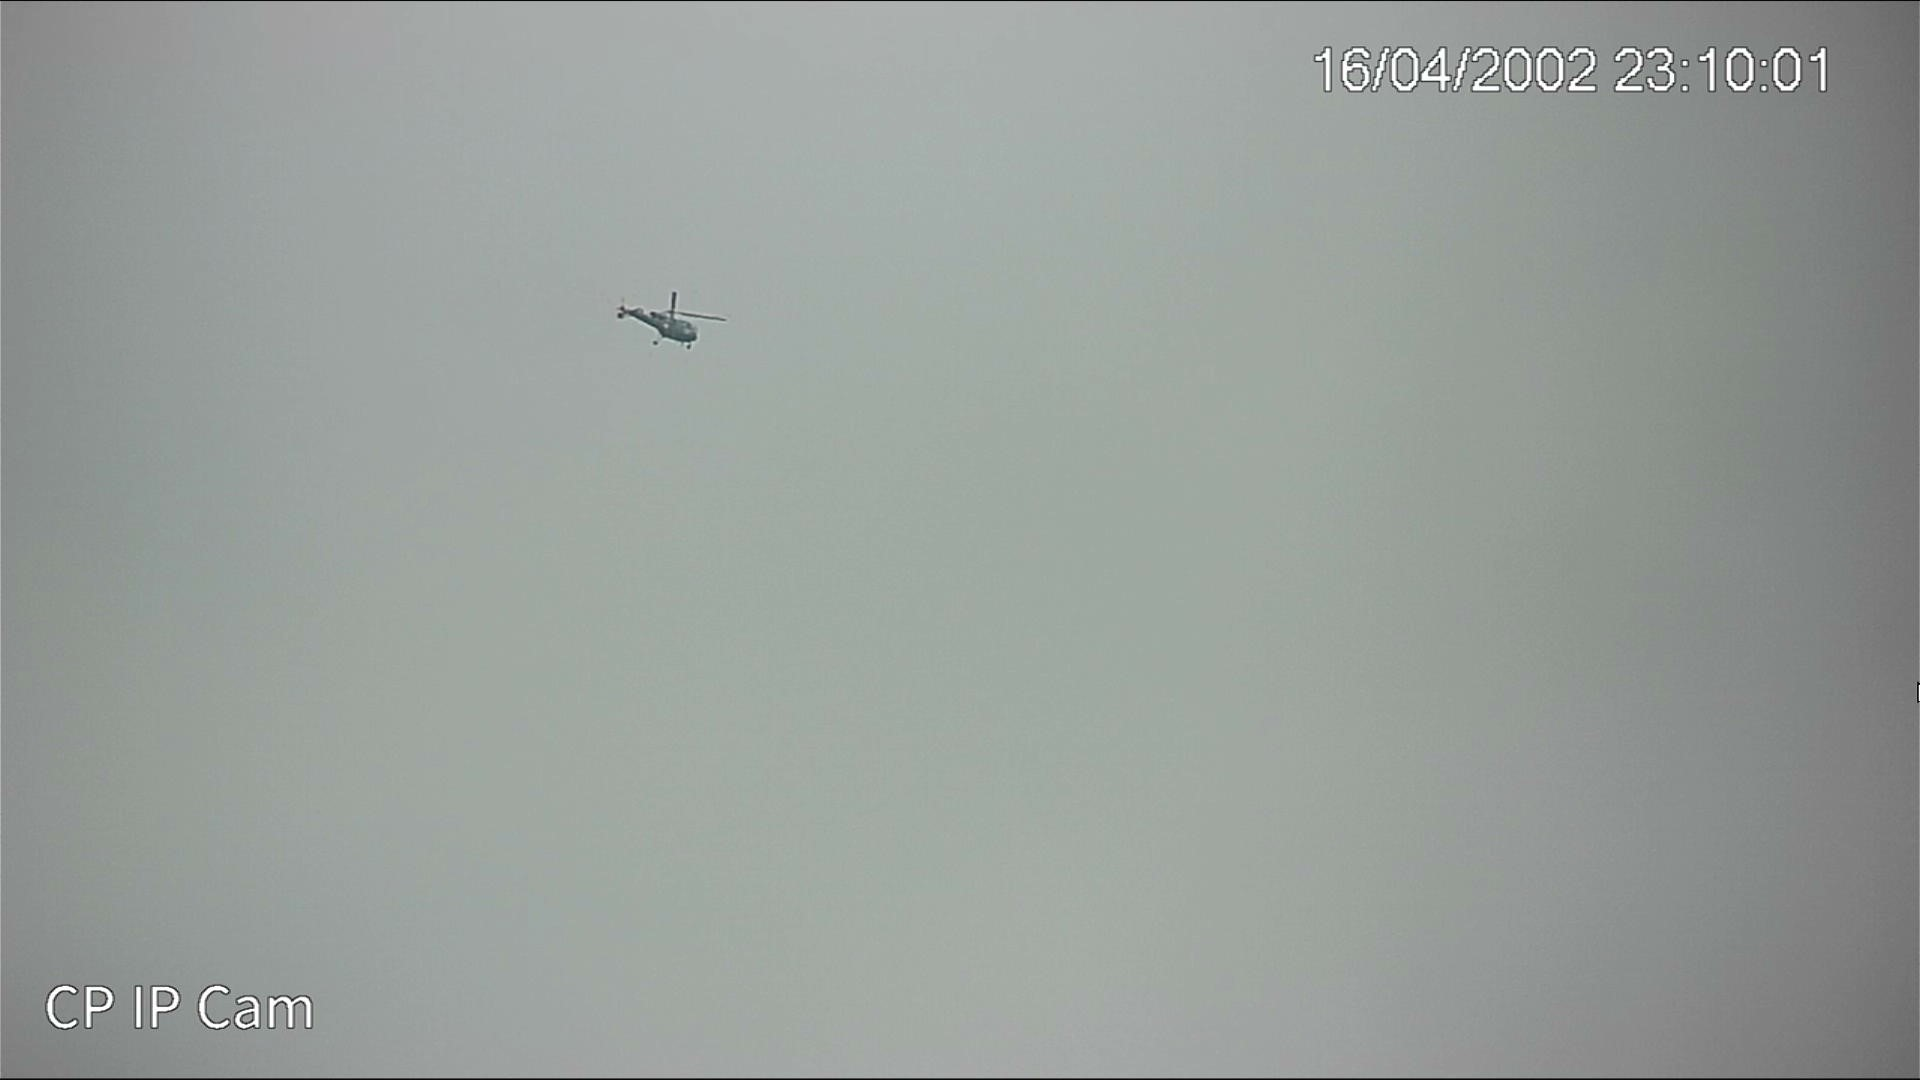SU_30: (615, 298, 705, 353)
